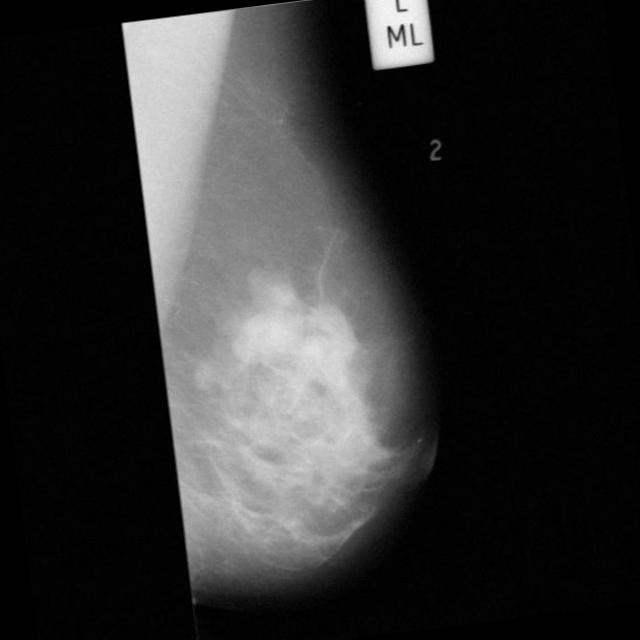MISC: (229, 293, 313, 377)
